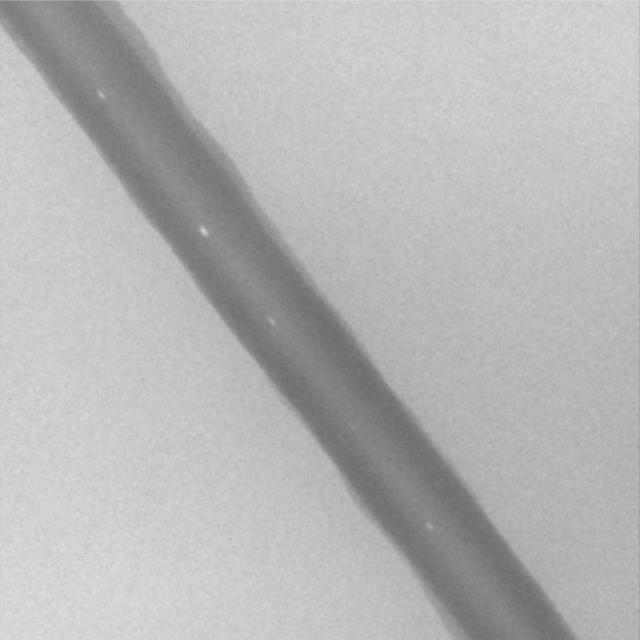air hole: (198, 224, 209, 239), (96, 88, 106, 102), (425, 522, 434, 533), (269, 315, 275, 325)
